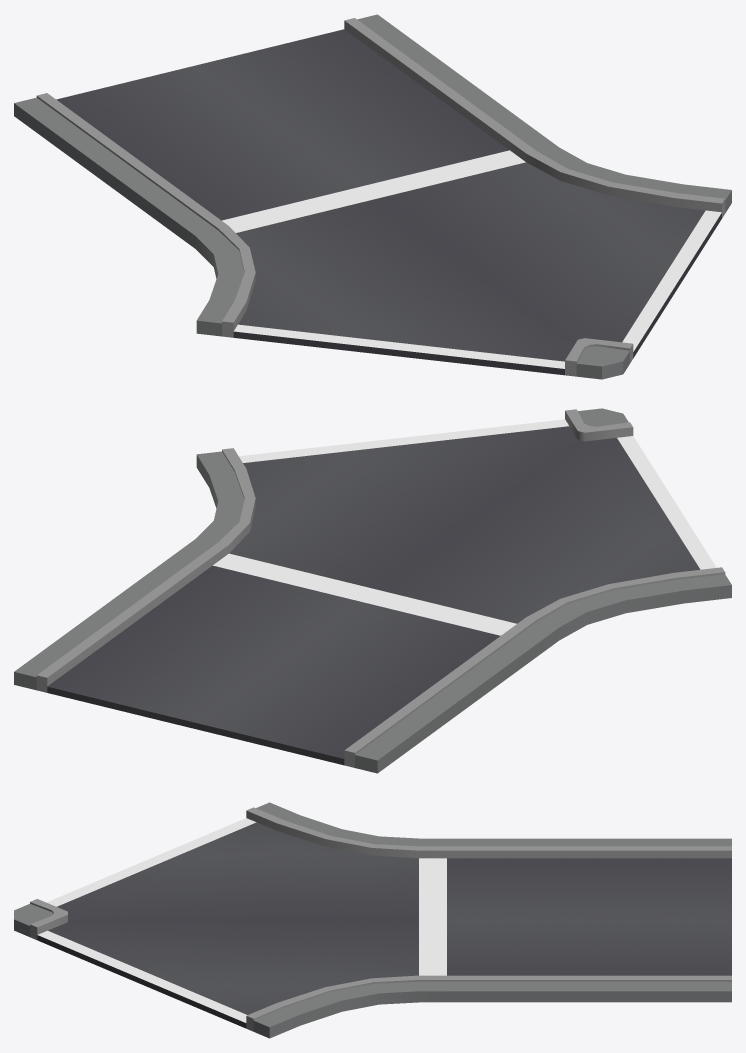
The model's file is Road11_Y_Splitter_45.glb.
3 renders of one model, top to bottom at view 1: azimuth 30°, elevation 25°; view 2: azimuth 150°, elevation 25°; view 3: azimuth 270°, elevation 25°, orthographic. The views are drawn at different scales.
Visible parts, largest first — view 1: Road11_Y_Splitter_45; view 2: Road11_Y_Splitter_45; view 3: Road11_Y_Splitter_45.
Part boxes in pixels (x1,y1,x2,y2): Road11_Y_Splitter_45: [14, 14, 731, 379]; Road11_Y_Splitter_45: [14, 408, 731, 773]; Road11_Y_Splitter_45: [14, 802, 731, 1038].
Size of the model in its own units: 17.67 by 0.4753 by 23.83.
Materials: 1 (1 with a texture image).
